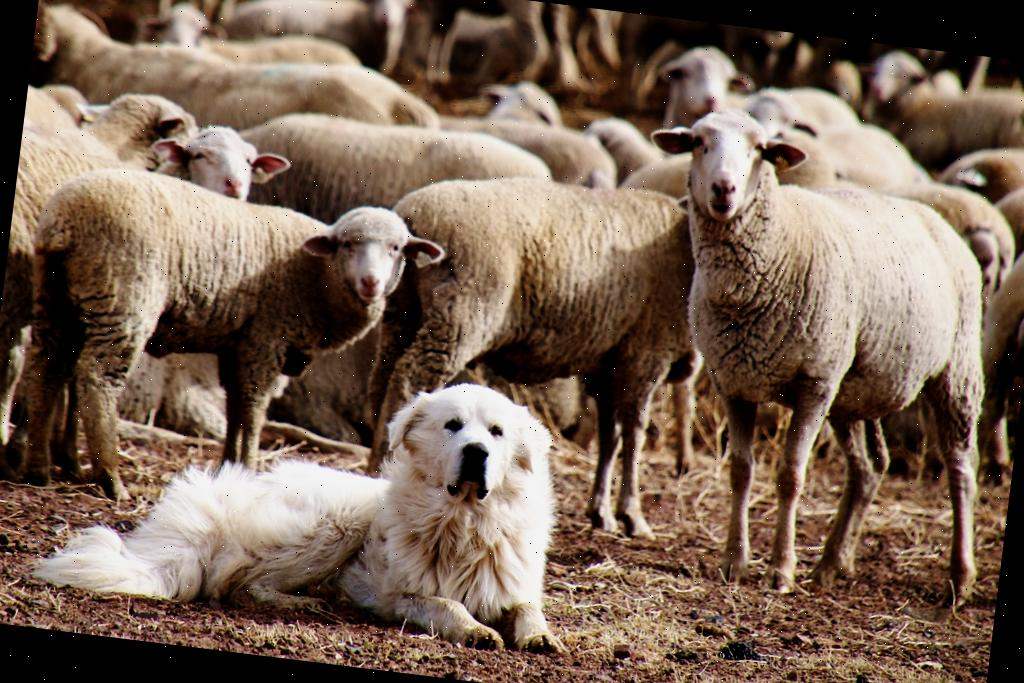Sheep: (595, 101, 1024, 623), (16, 156, 448, 542), (340, 134, 738, 552), (0, 99, 304, 507), (238, 99, 598, 251), (19, 0, 255, 178), (849, 42, 1024, 172), (653, 36, 858, 146), (19, 78, 204, 178), (228, 0, 434, 80)
